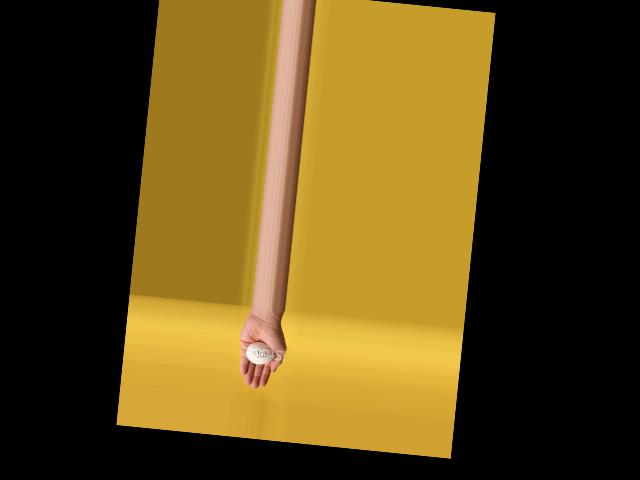egg: (244, 341, 275, 365)
